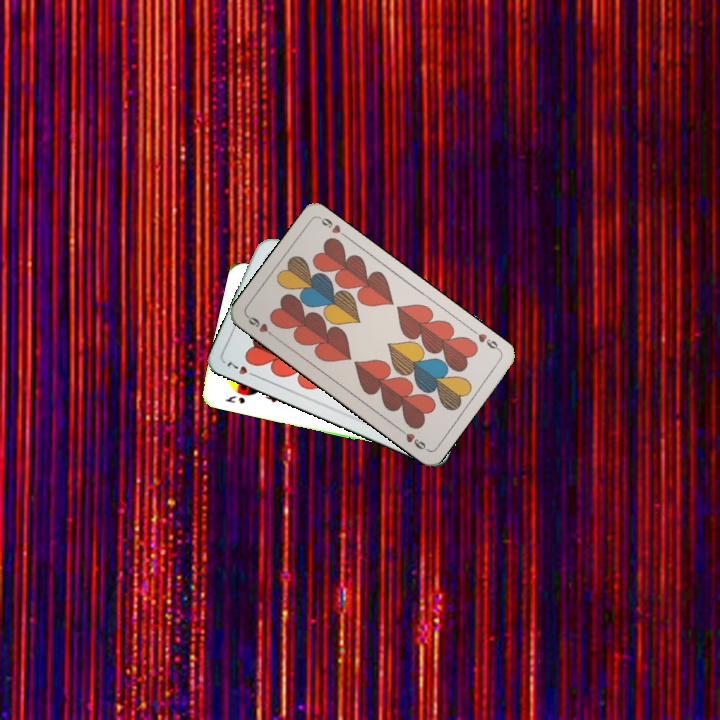H7: (223, 356, 260, 380)
H9: (468, 325, 503, 354), (243, 312, 278, 340)
SK: (221, 391, 248, 406)
